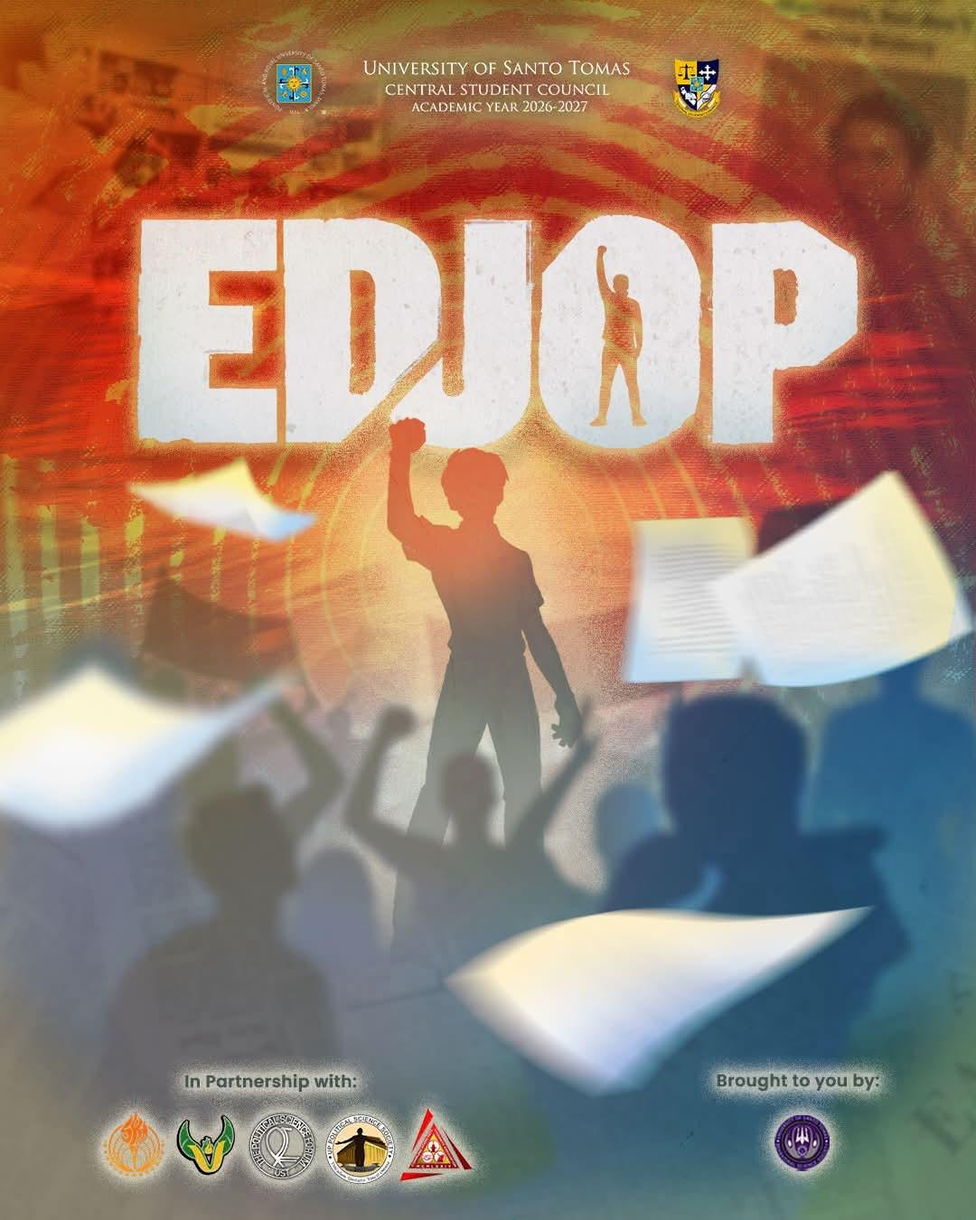embellishment: (450, 908, 870, 1093), (716, 473, 971, 685), (0, 664, 280, 829), (624, 519, 751, 681), (124, 462, 319, 540), (591, 243, 646, 425)
logo: (399, 1104, 481, 1191), (95, 1104, 171, 1185), (324, 1107, 399, 1187), (246, 1107, 322, 1185), (257, 44, 332, 121), (766, 1105, 843, 1178), (173, 1108, 241, 1179), (665, 49, 728, 122)
text: (119, 198, 879, 461), (355, 51, 647, 121), (173, 1062, 368, 1096), (708, 1060, 889, 1093)
